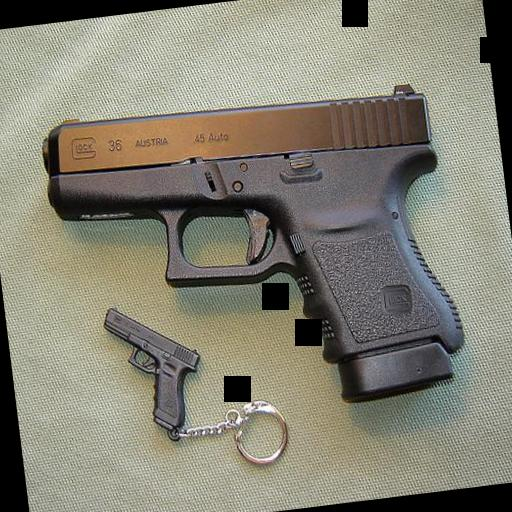Handgun: (34, 69, 473, 440), (98, 296, 206, 446)
